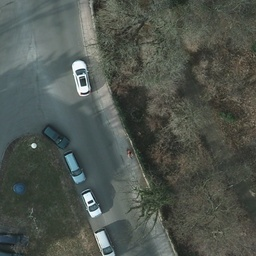car: (71, 60, 93, 95), (42, 124, 71, 147), (64, 152, 84, 184), (81, 188, 103, 217), (93, 226, 115, 255)
